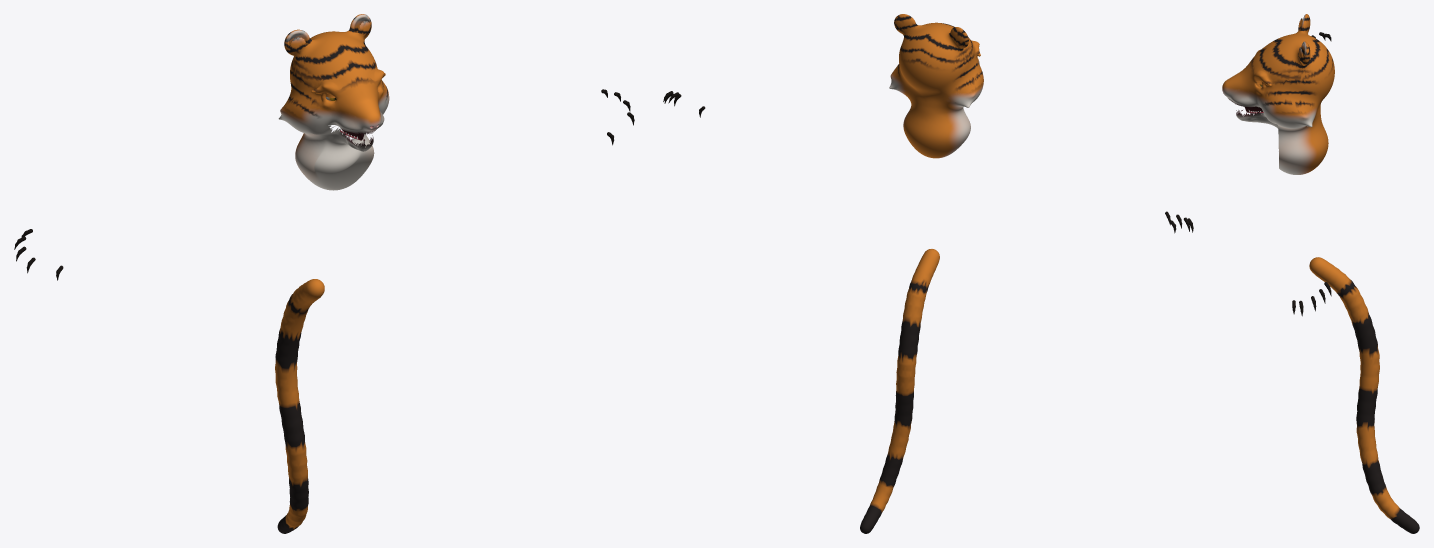
The model's file is female_tiger.glb.
3 renders of one model, left to right at view 1: azimuth 30°, elevation 25°; view 2: azimuth 150°, elevation 25°; view 3: azimuth 270°, elevation 25°, orthographic. The views are drawn at different scales.
Visible parts, largest first — view 1: AnimalHead, AnimalTail; view 2: AnimalHead, AnimalTail; view 3: AnimalHead, AnimalTail.
Part boxes in pixels (x1,y1,x2,y2): AnimalHead: [278, 14, 389, 190]; AnimalTail: [275, 279, 324, 533]; AnimalHead: [889, 14, 983, 158]; AnimalTail: [860, 249, 939, 533]; AnimalHead: [1222, 14, 1334, 174]; AnimalTail: [1309, 257, 1419, 533].
Bounding box in the file's own units: 1.59 × 1.38 × 0.4979.
